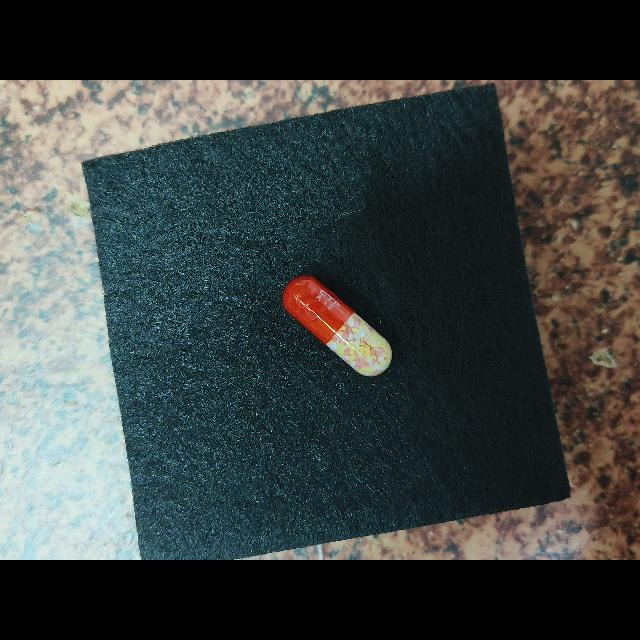Intact Capsule: (283, 276, 392, 376)
